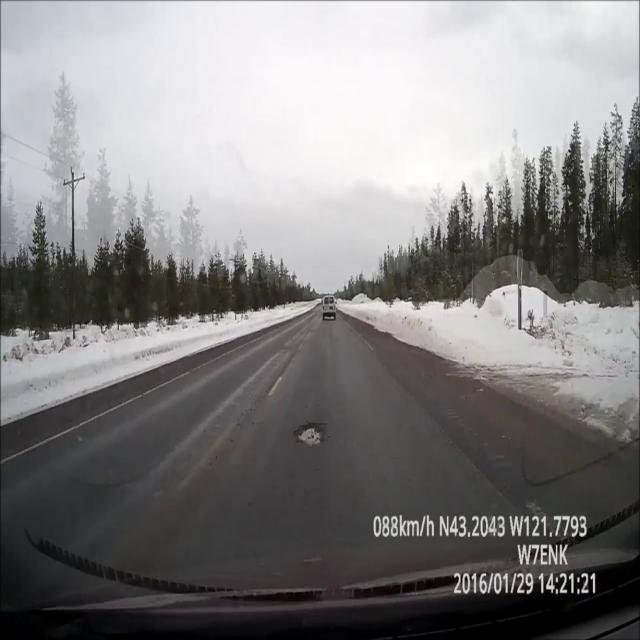Pothole: (295, 420, 326, 447)
